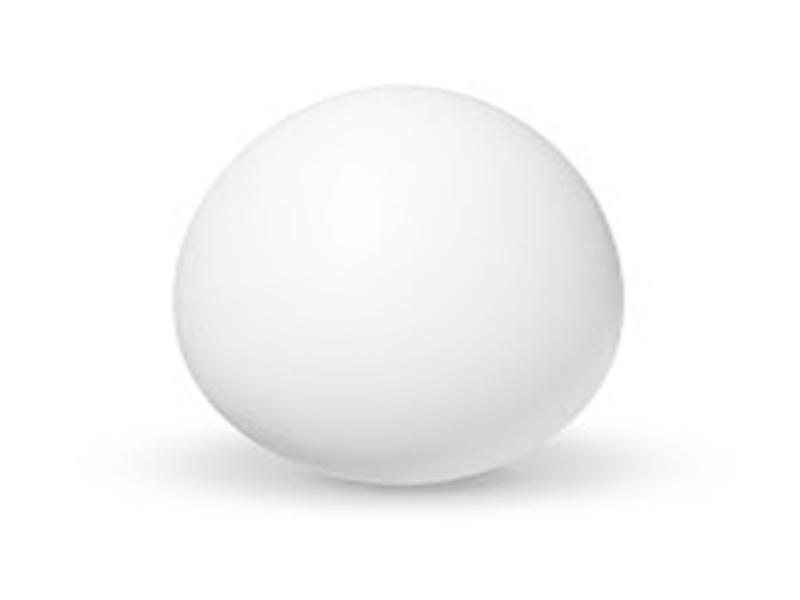Eggs: (175, 82, 616, 483)
